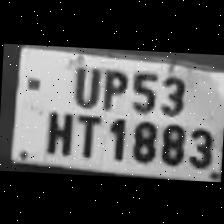1: (100, 110, 128, 160)
3: (183, 120, 214, 167), (155, 70, 187, 113)
5: (125, 65, 158, 112)
8: (126, 114, 157, 163), (155, 116, 186, 164)
H: (38, 105, 74, 156)
P: (98, 62, 130, 110)
T: (71, 106, 103, 156)
U: (65, 60, 100, 105)
